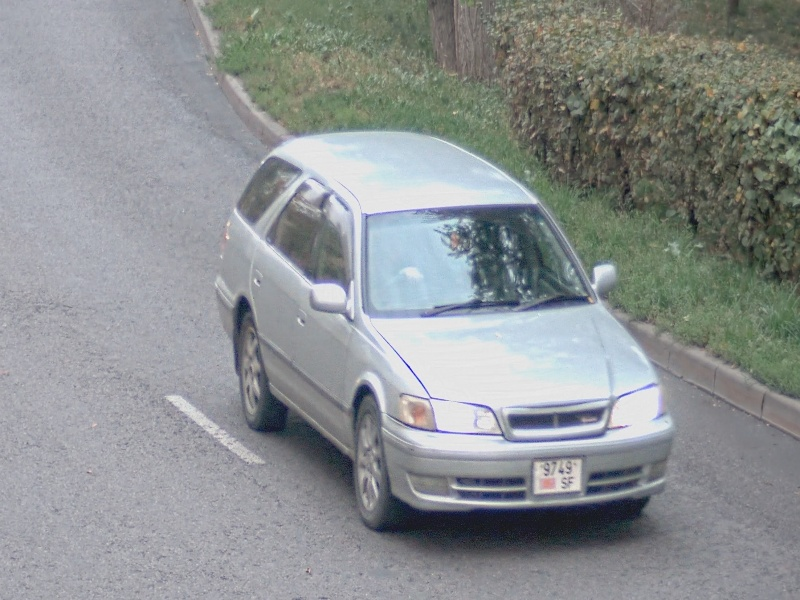sq plate: (532, 455, 584, 496)
